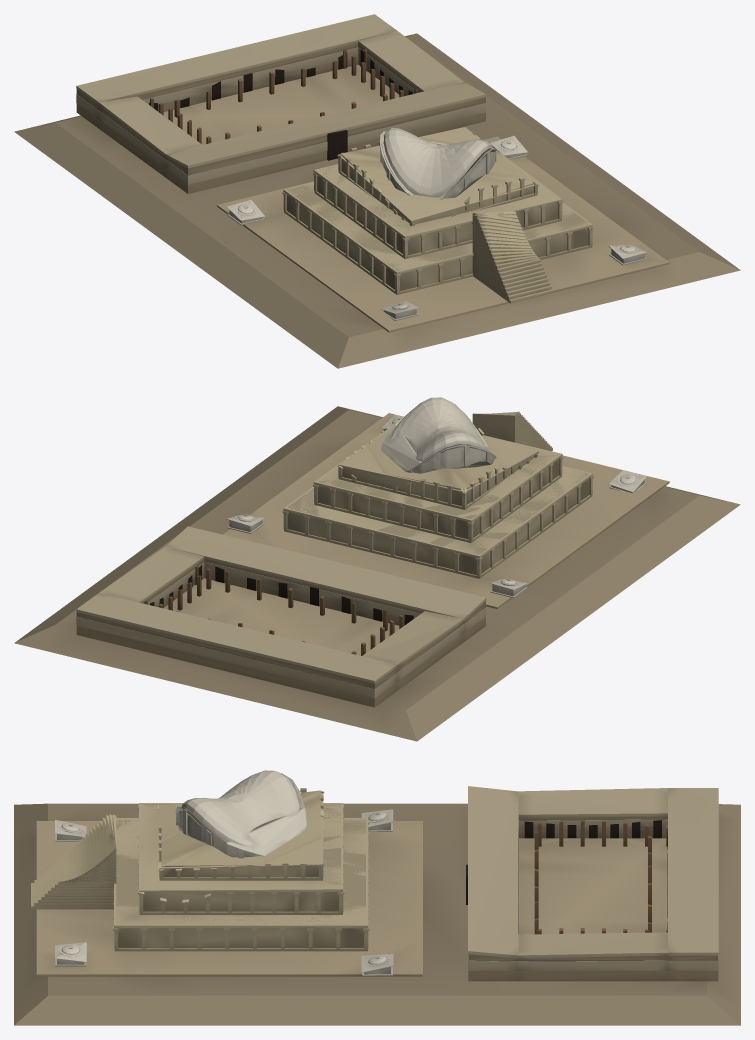
The model's file is kunala-ruin.glb.
3 renders of one model, top to bottom at view 1: azimuth 30°, elevation 25°; view 2: azimuth 150°, elevation 25°; view 3: azimuth 270°, elevation 25°, orthographic. The views are drawn at different scales.
Parts seen in each view (by area): view 1: p0_ridge, p2_monastery, p1_stupa; view 2: p0_ridge, p2_monastery, p1_stupa; view 3: p0_ridge, p2_monastery, p1_stupa.
Part boxes in pixels (bbox=[...]): p0_ridge: bbox=[14, 33, 740, 368]; p2_monastery: bbox=[76, 14, 647, 320]; p1_stupa: bbox=[282, 127, 593, 303]; p0_ridge: bbox=[14, 406, 740, 741]; p2_monastery: bbox=[76, 415, 647, 707]; p1_stupa: bbox=[282, 397, 593, 578]; p0_ridge: bbox=[14, 803, 740, 1025]; p2_monastery: bbox=[55, 786, 718, 981]; p1_stupa: bbox=[31, 770, 369, 951].
Size of the model in its own units: 46 by 12.29 by 64.
